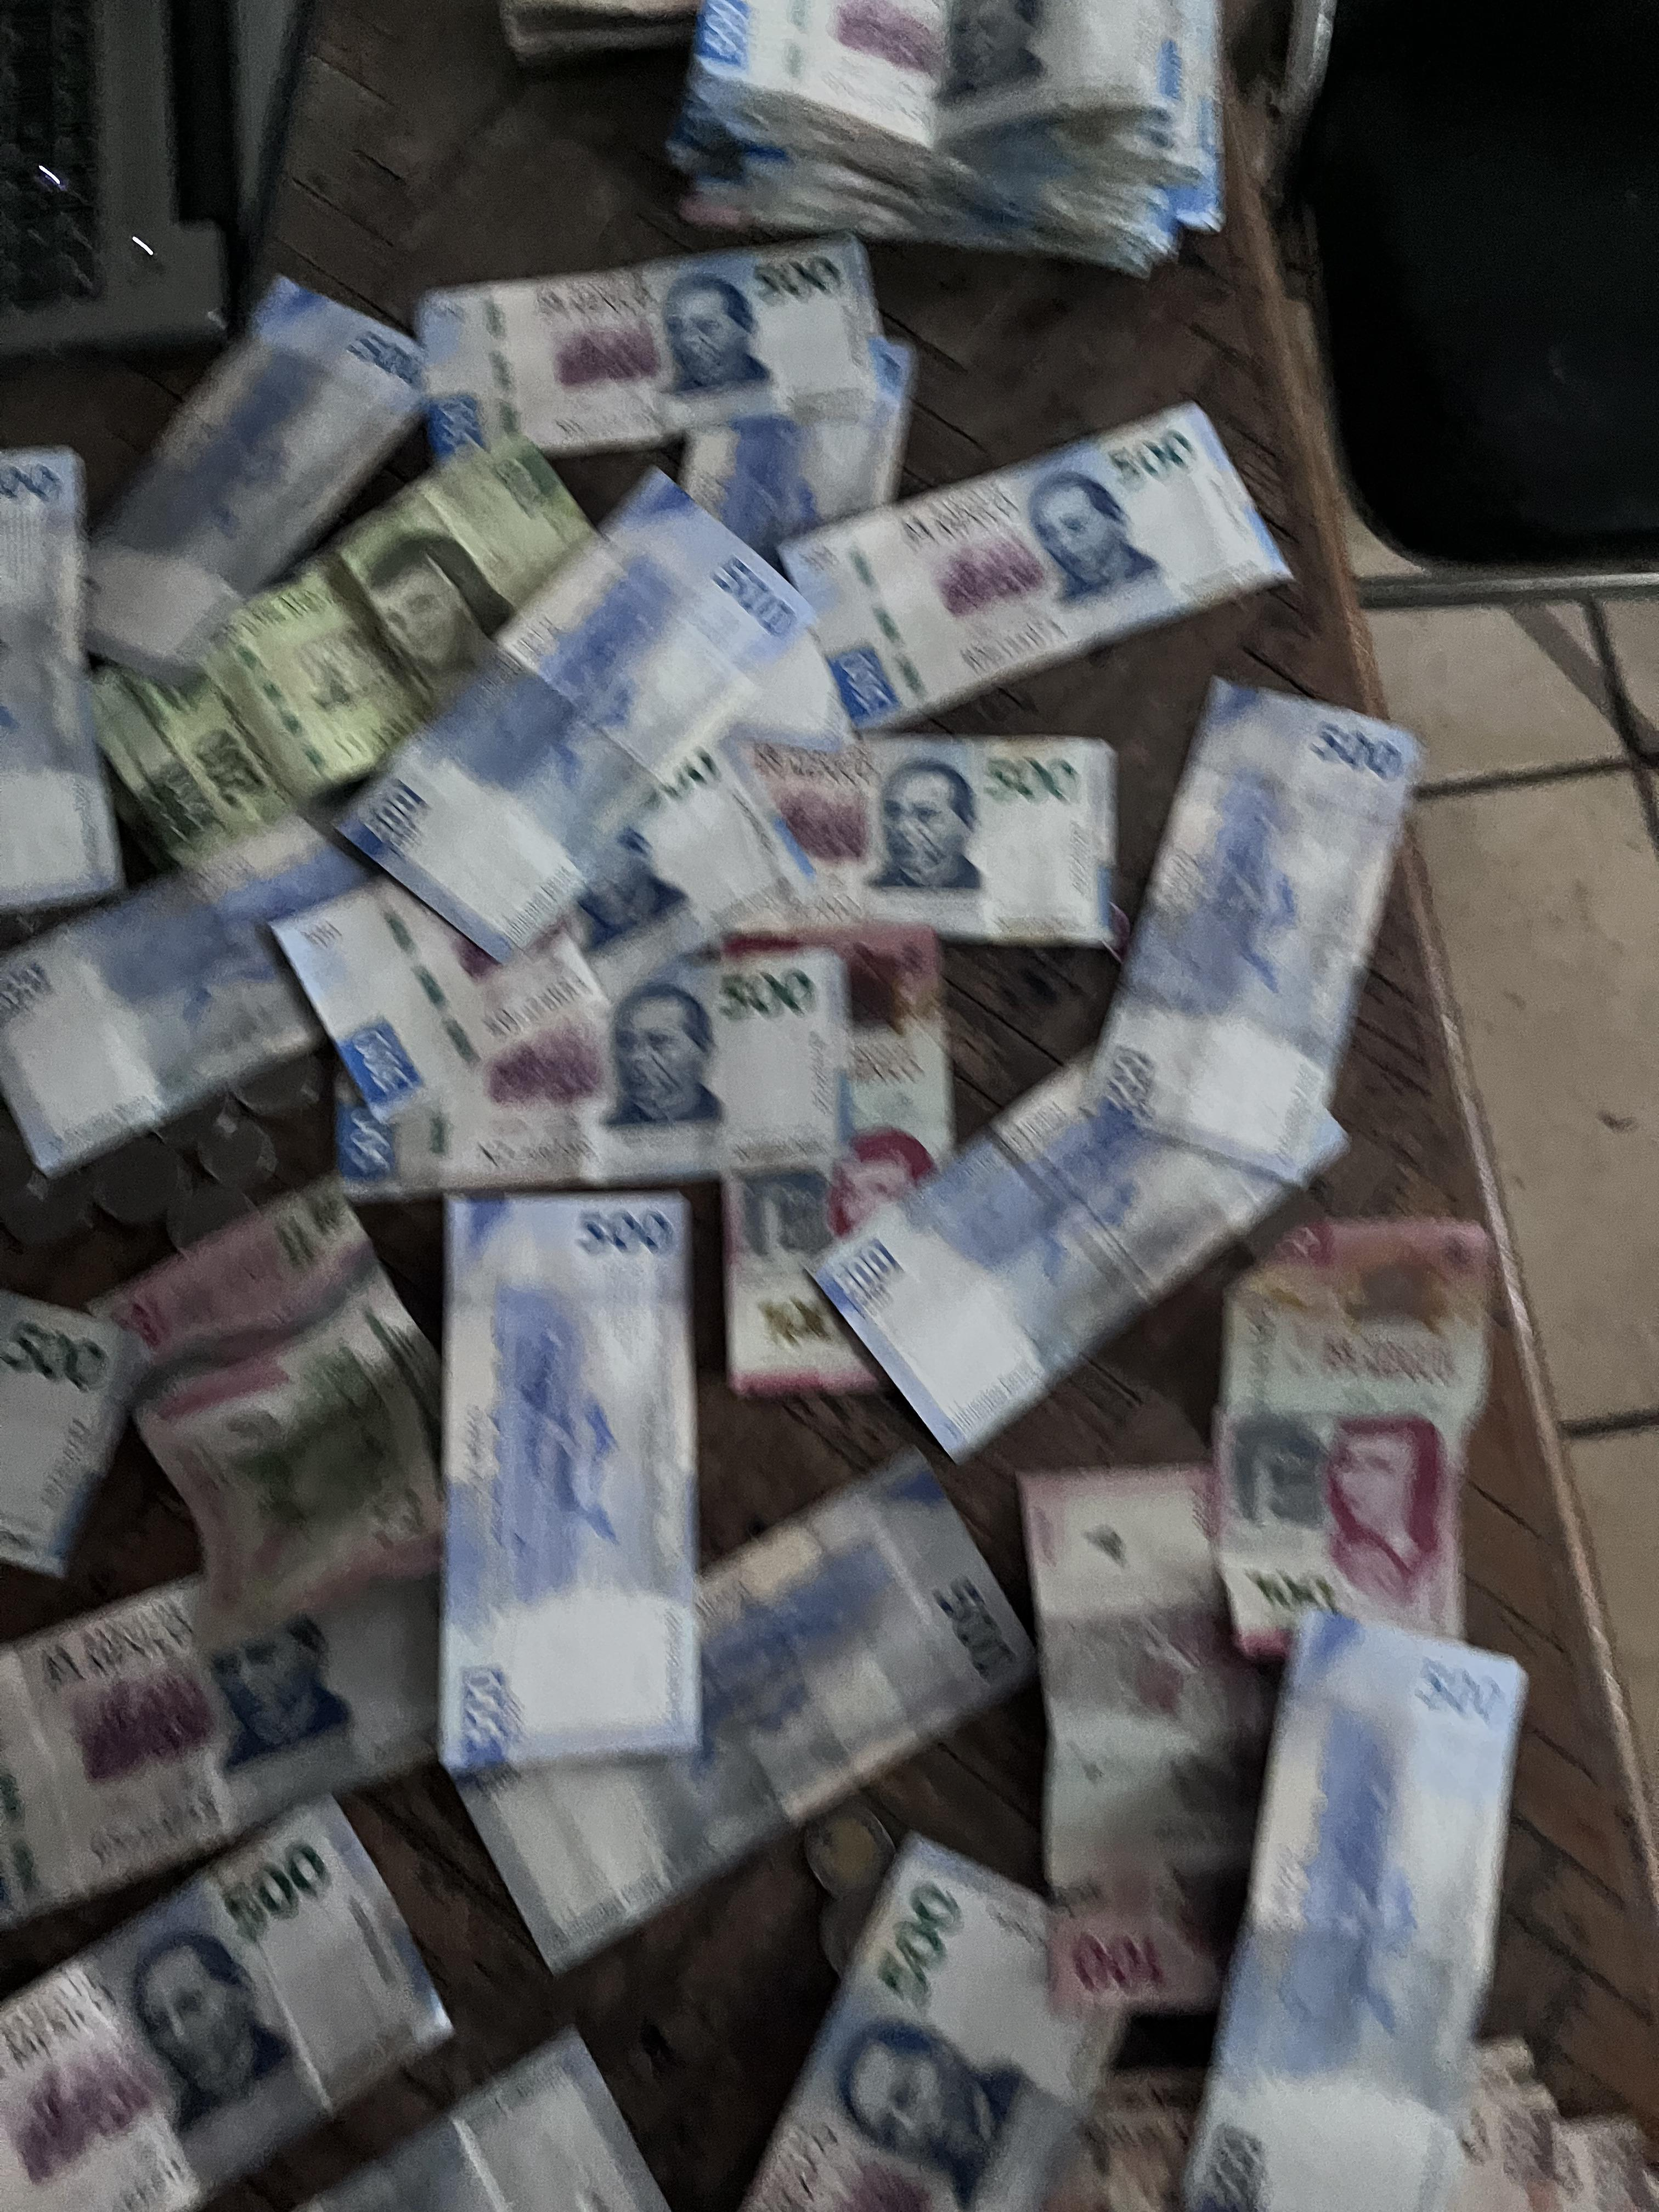100: (1012, 1451, 1328, 2031), (1180, 1188, 1525, 1674), (687, 916, 974, 1418)
20: (71, 1188, 484, 1649)
200: (63, 434, 669, 864)
500: (244, 721, 809, 1106)
500 nuevo: (350, 1440, 1060, 1980), (760, 1015, 1356, 1468), (312, 462, 809, 986), (735, 376, 1347, 747), (1169, 1590, 1518, 2212), (0, 1764, 472, 2212), (408, 1181, 741, 1794), (1087, 653, 1424, 1204), (68, 230, 427, 718), (0, 813, 430, 1207), (0, 1550, 484, 1898), (756, 1804, 1136, 2212), (267, 951, 885, 1188), (640, 702, 1162, 948), (673, 0, 1277, 190), (397, 261, 945, 460), (0, 425, 138, 932), (0, 1264, 138, 1583)
